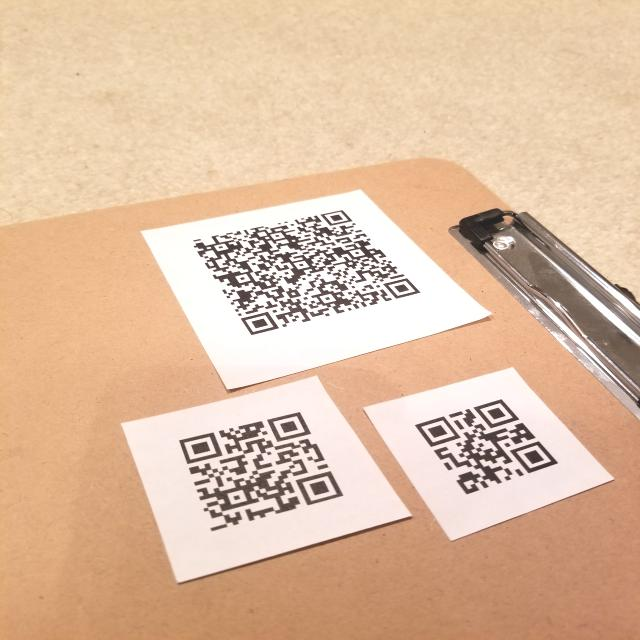QRCode: (184, 206, 429, 342), (170, 406, 354, 543), (407, 395, 566, 506)
